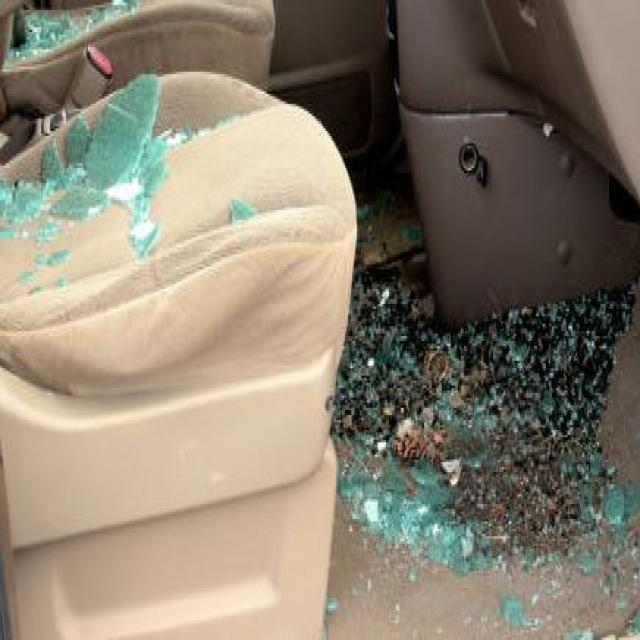electronic: (352, 294, 632, 584), (1, 74, 168, 264), (4, 0, 140, 62)
